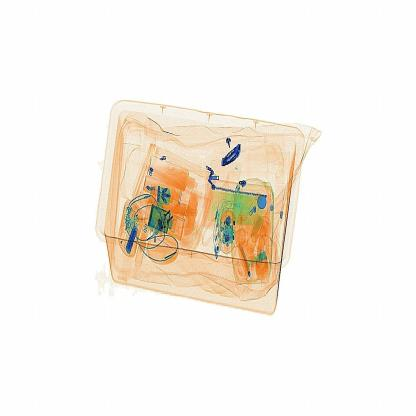knife: (214, 137, 249, 177)
